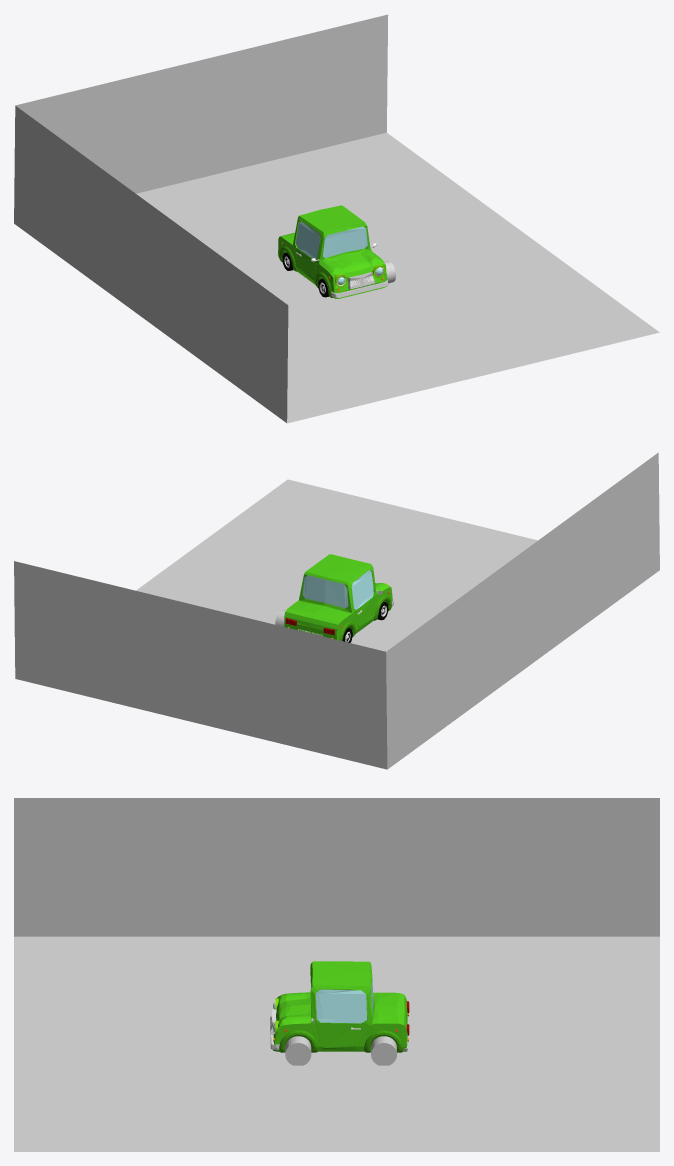
Rendered from car.fbx.
The picture shows the model from 3 angles, top to bottom: view 1: azimuth 30°, elevation 25°; view 2: azimuth 150°, elevation 25°; view 3: azimuth 270°, elevation 25°; orthographic projection. The views are drawn at different scales.
Visible parts, largest first — view 1: Площина, Cube; view 2: Площина, Cube; view 3: Площина, Cube, Циліндр, Тор.002.
Boxes of the visible parts, x1,y1,x2,y2 form: Площина: (14, 14, 659, 423); Cube: (277, 205, 388, 298); Площина: (14, 452, 659, 769); Cube: (284, 554, 393, 640); Площина: (14, 798, 659, 1151); Cube: (269, 961, 407, 1051); Циліндр: (285, 1036, 396, 1065); Тор.002: (279, 1007, 403, 1052).
Bounding box in the file's own units: 2136 × 646 × 2700.
